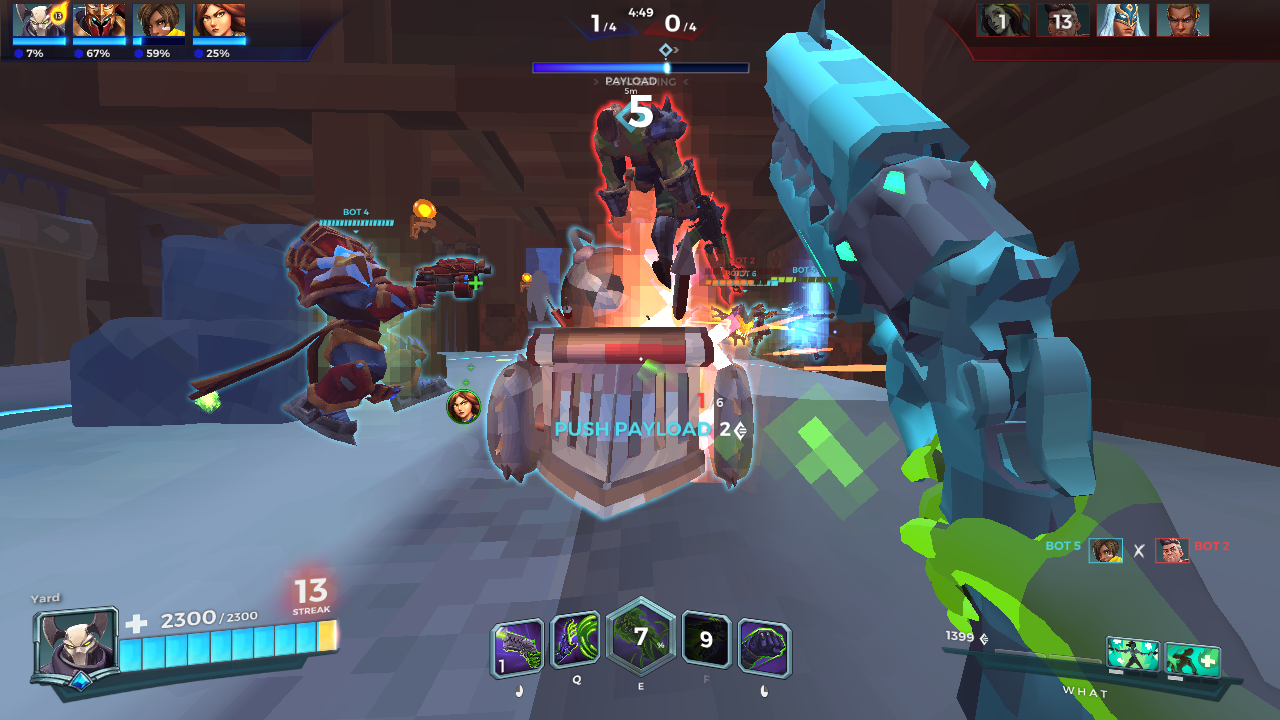model: (588, 98, 749, 308), (715, 298, 754, 349)
